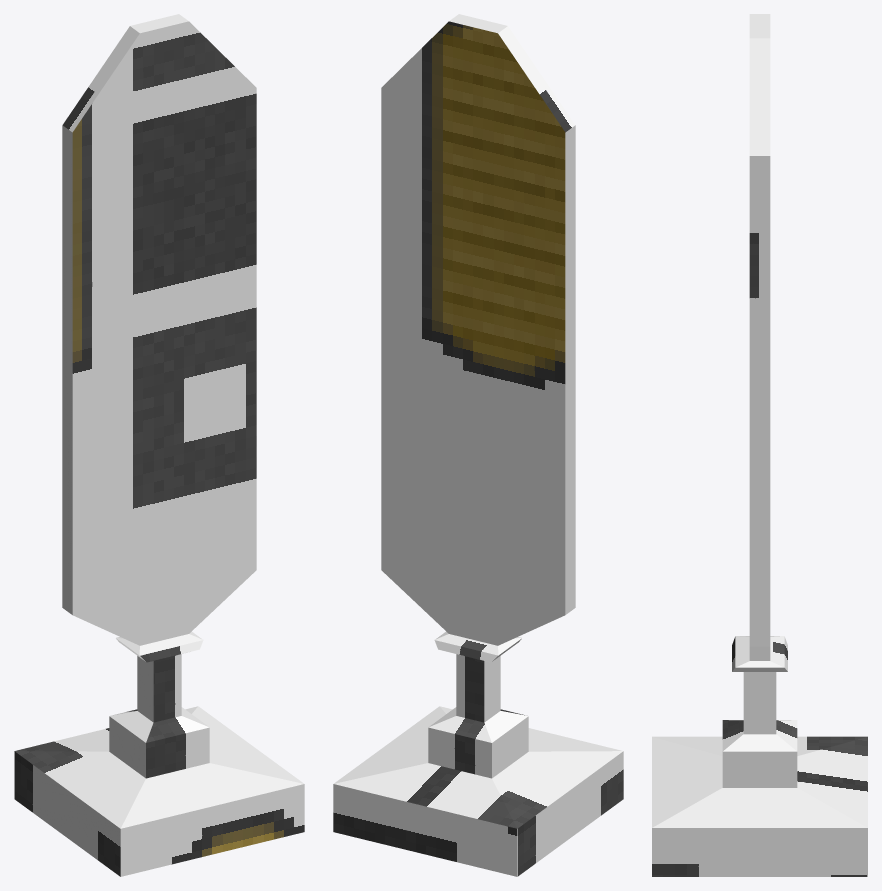
File: solar_panel.obj
3 renders of one model, left to right at view 1: azimuth 30°, elevation 25°; view 2: azimuth 150°, elevation 25°; view 3: azimuth 270°, elevation 25°, orthographic.
Visible parts, largest first — view 1: Cube; view 2: Cube; view 3: Cube.
Boxes of the visible parts, x1,y1,x2,y2 form: Cube: [14, 14, 304, 876]; Cube: [333, 14, 623, 876]; Cube: [652, 14, 867, 876].
Bounding box in the file's own units: 1 × 4.11 × 1.
